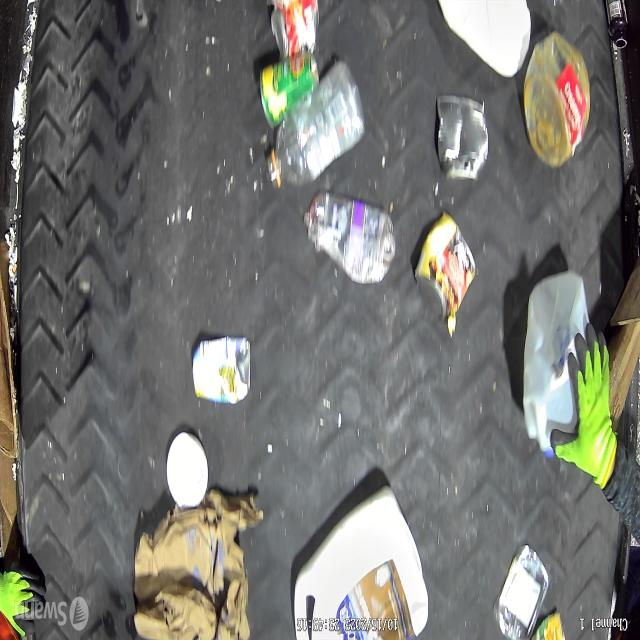can: (417, 214, 474, 321), (435, 94, 489, 184), (192, 331, 250, 406), (270, 0, 320, 59)
milk_jug: (293, 486, 429, 640), (523, 269, 592, 458), (432, 0, 532, 79)
plastic_bottle: (266, 62, 368, 187), (302, 191, 395, 286)
